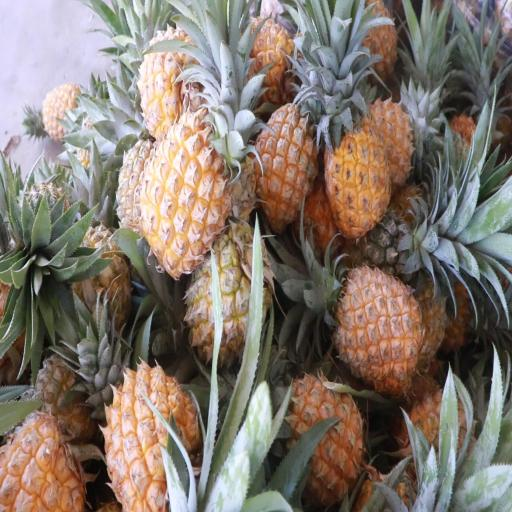------------------------------: (189, 234, 266, 363)
Pineapple - v8 v1: (108, 364, 198, 508), (144, 119, 227, 263), (282, 379, 364, 504), (336, 271, 421, 386), (251, 104, 321, 226), (325, 124, 390, 233), (140, 34, 204, 131), (244, 16, 294, 94)
